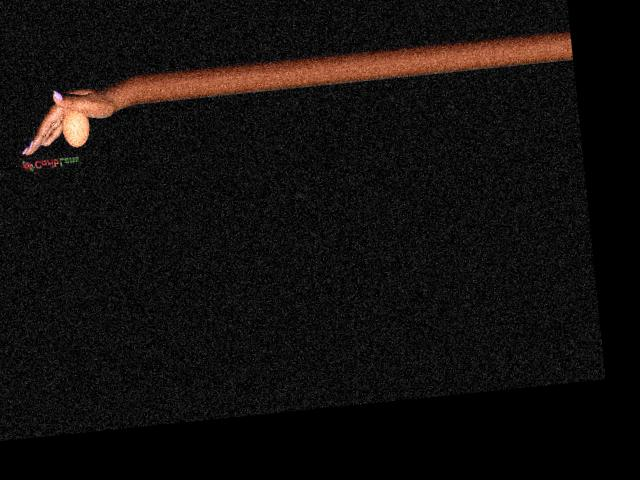egg: (60, 109, 92, 148)
